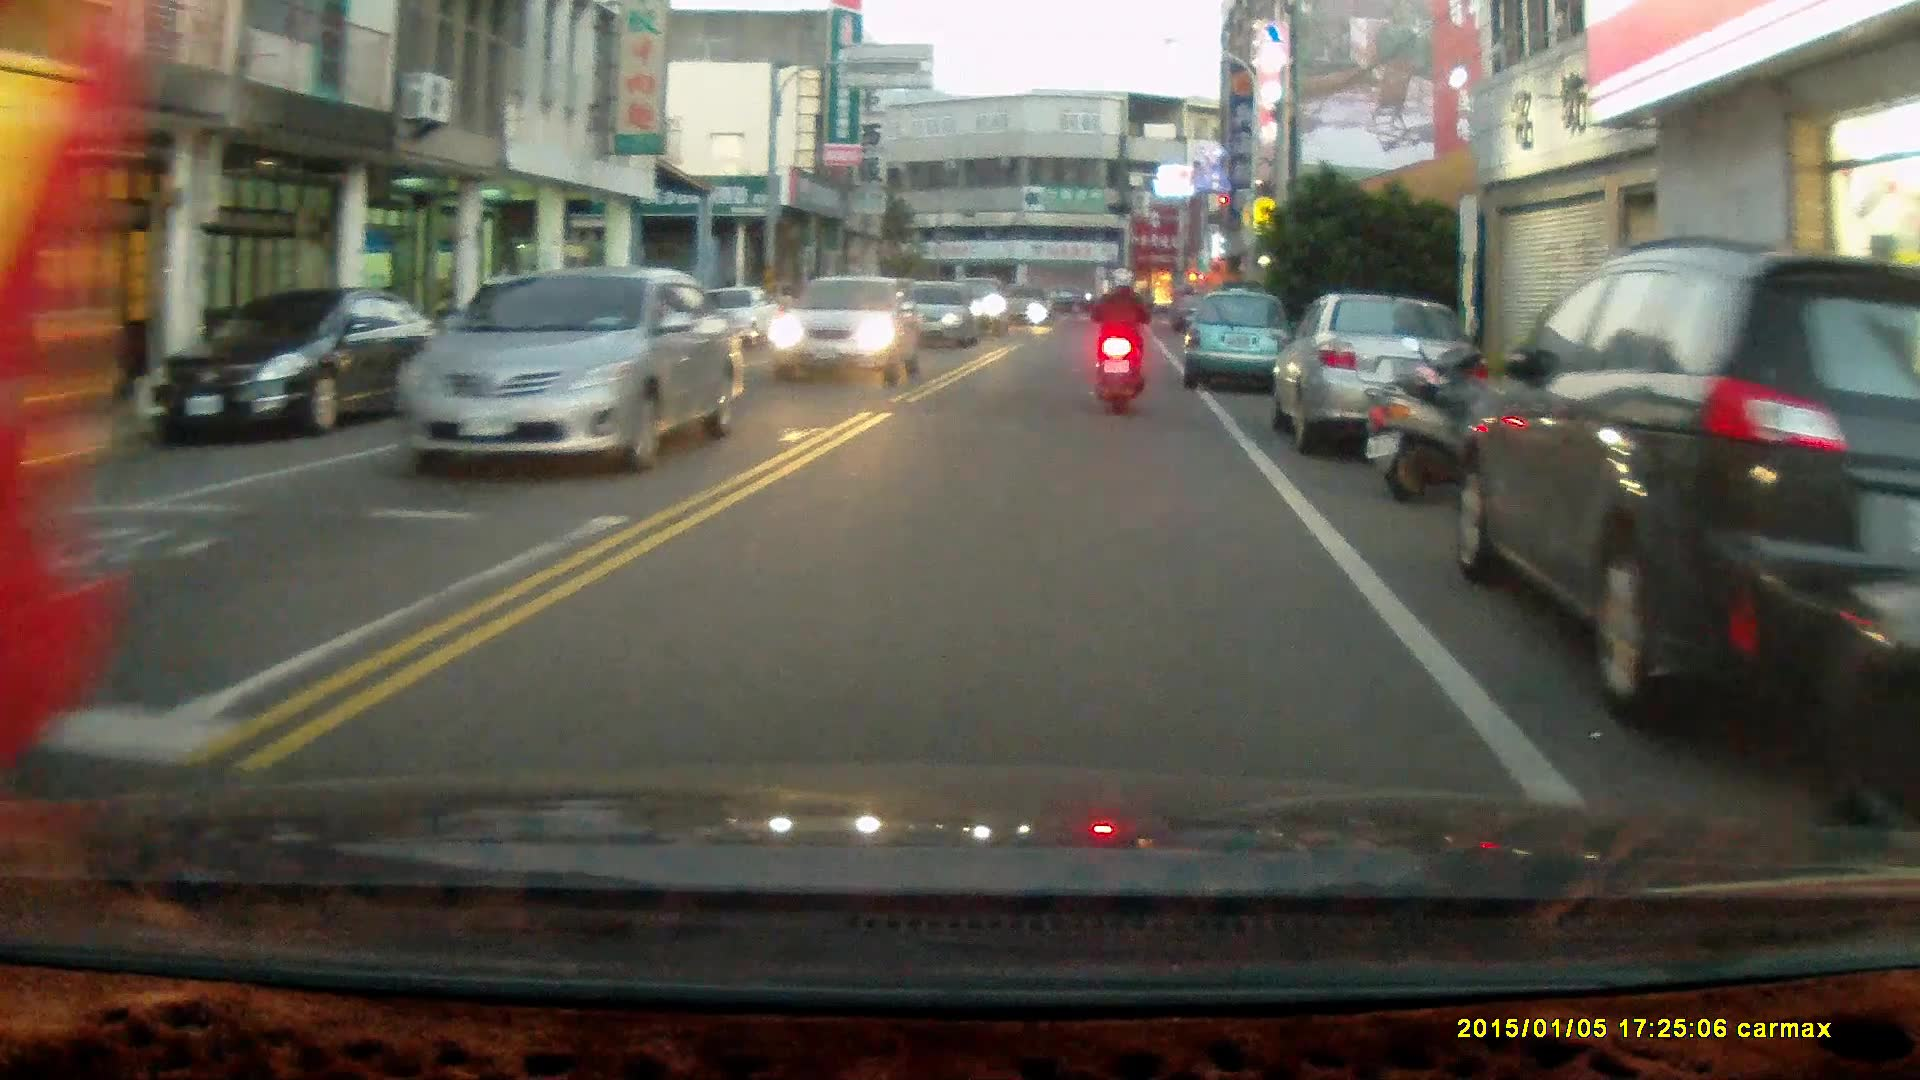rider: (1083, 266, 1148, 418)
vehicle: (1455, 232, 1920, 732), (1, 9, 145, 785), (390, 267, 747, 472), (145, 284, 447, 447), (1278, 300, 1472, 468), (768, 280, 922, 389), (1184, 291, 1296, 397), (897, 283, 980, 351)
